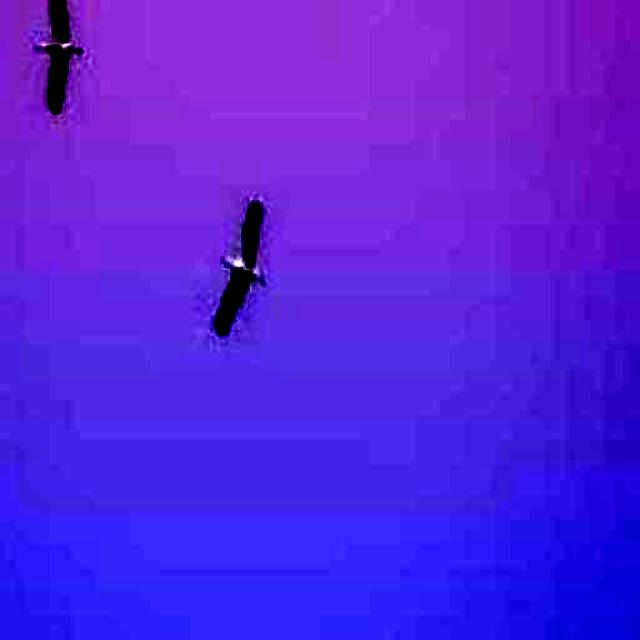airplane: (211, 196, 269, 334), (32, 0, 84, 115)
